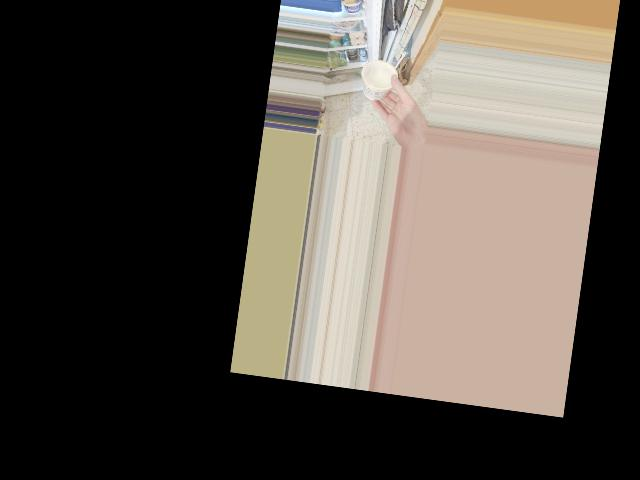cotage: (359, 60, 395, 102)
